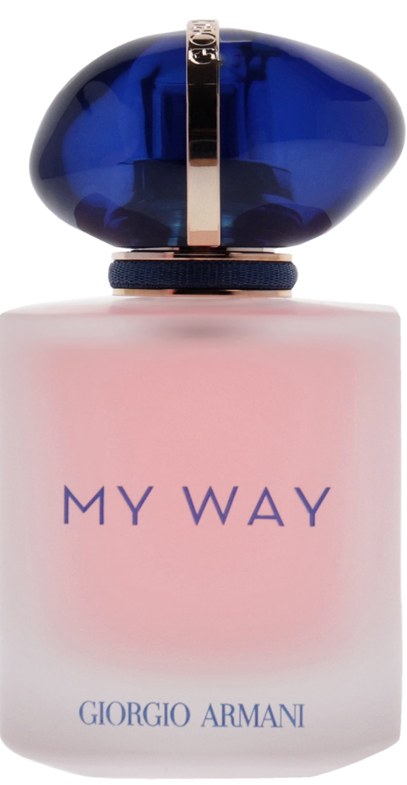armani_my_way_floral: (1, 11, 402, 781)
